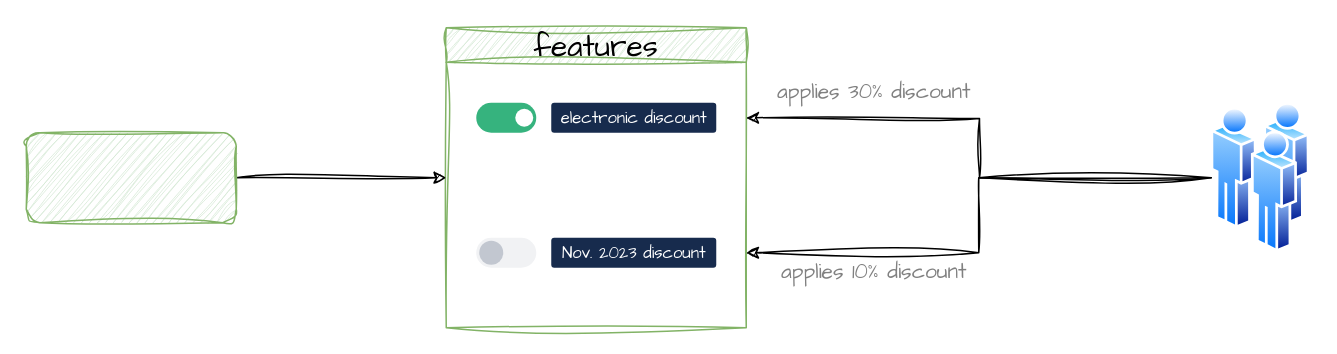
This 1337x354 diagram has some shape labels left out. Each missing label, with the centre of its shape:
e-commerce: the point at 130,177
users: the point at 1260,177
